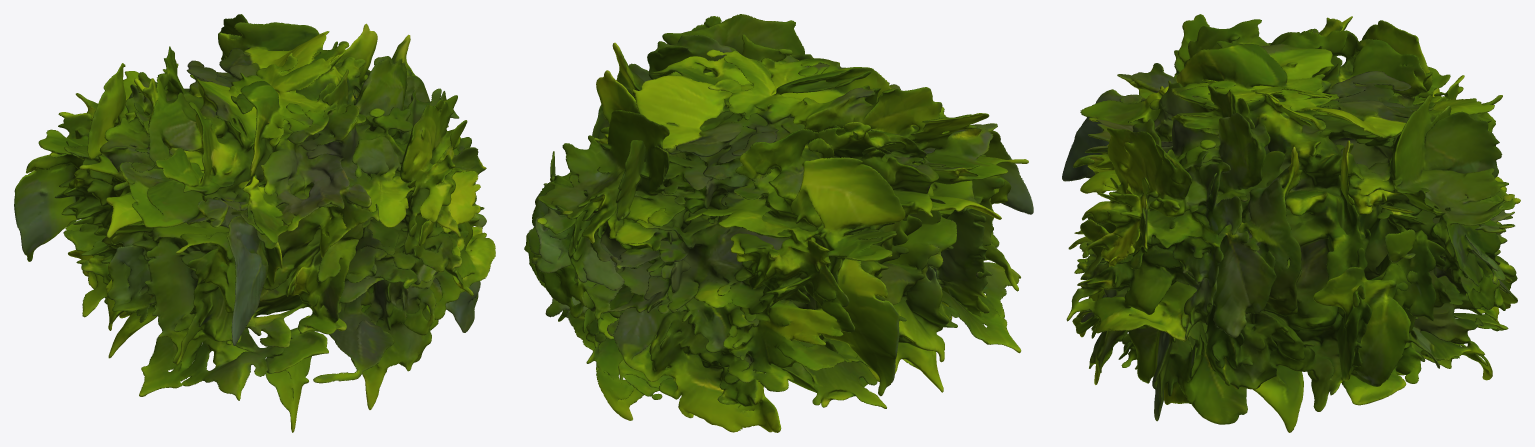
Rendered from leaves_grade_1.glb.
3 renders of one model, left to right at view 1: azimuth 30°, elevation 25°; view 2: azimuth 150°, elevation 25°; view 3: azimuth 270°, elevation 25°, orthographic. The views are drawn at different scales.
Visible parts, largest first — view 1: tripo_node_44e67ee7-6d59-4126-93d0-7ba0c3c78acb; view 2: tripo_node_44e67ee7-6d59-4126-93d0-7ba0c3c78acb; view 3: tripo_node_44e67ee7-6d59-4126-93d0-7ba0c3c78acb.
Part boxes in pixels (x1,y1,x2,y2): tripo_node_44e67ee7-6d59-4126-93d0-7ba0c3c78acb: (14,14,495,432); tripo_node_44e67ee7-6d59-4126-93d0-7ba0c3c78acb: (524,14,1033,432); tripo_node_44e67ee7-6d59-4126-93d0-7ba0c3c78acb: (1062,14,1520,432).
Size of the model in its own units: 0.9998 by 0.7597 by 0.9977.
Materials: 1 (1 with a texture image).
